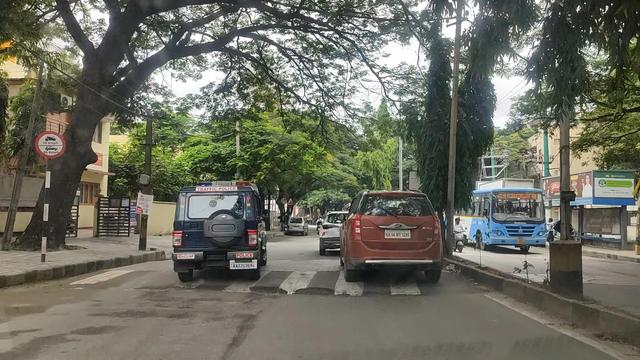LMV: (172, 178, 258, 282), (352, 188, 442, 281)
RoadDamages: (227, 309, 261, 355), (153, 292, 194, 319), (294, 287, 342, 303), (252, 286, 286, 299)
